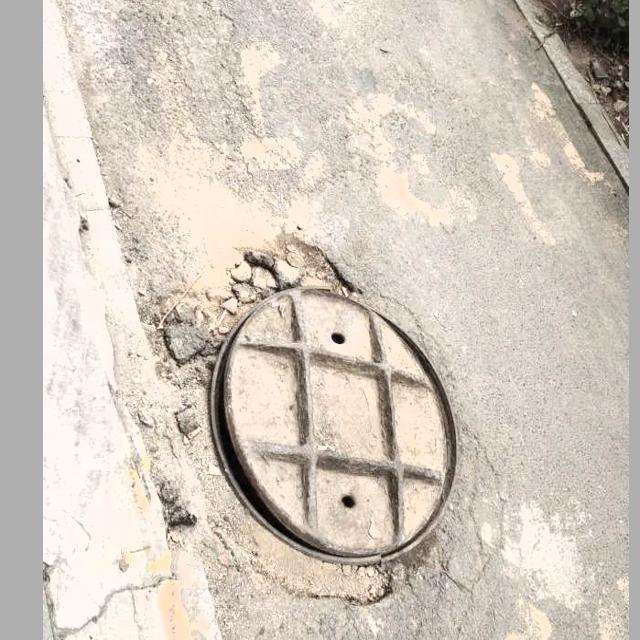circle: (109, 227, 498, 629)
